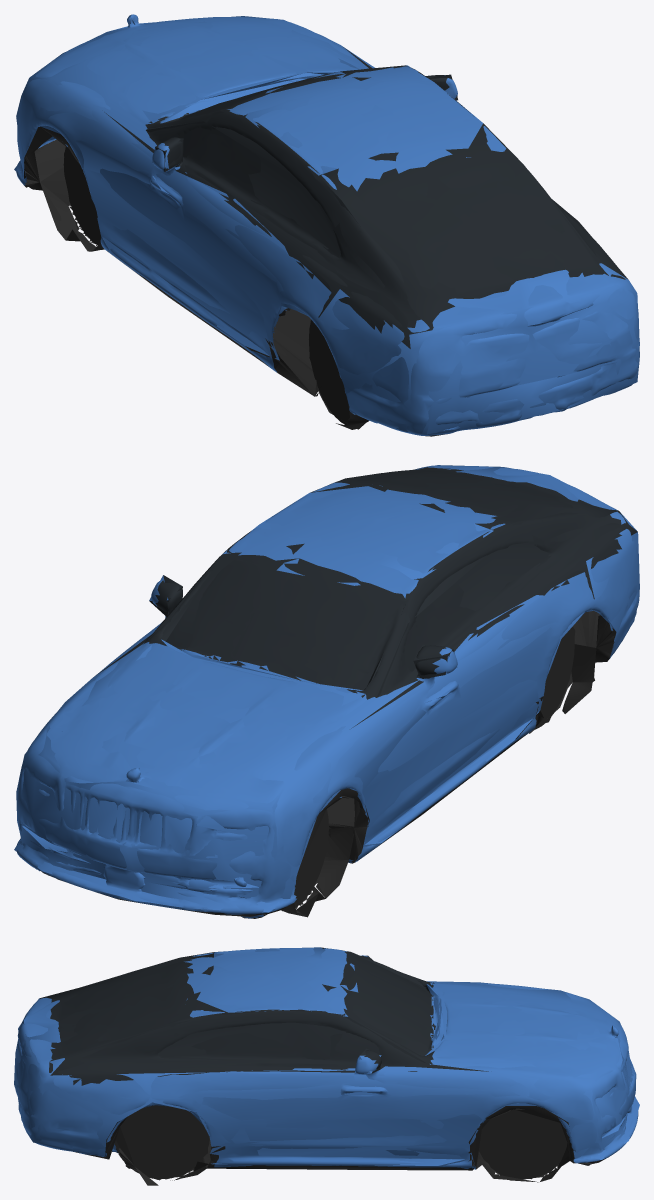
File: rolls-royce-spectre.glb
The picture shows the model from 3 angles, top to bottom: view 1: azimuth 30°, elevation 25°; view 2: azimuth 150°, elevation 25°; view 3: azimuth 270°, elevation 25°; orthographic projection. The views are drawn at different scales.
Parts seen in each view (by area): view 1: body, far; view 2: body, far; view 3: body, far.
Boxes of the visible parts, x1,y1,x2,y2 form: body: (16,14,639,436); far: (14,15,639,434); body: (16,465,639,918); far: (14,465,639,913); body: (15,948,638,1185); far: (14,947,639,1179).
Bounding box in the file's own units: 2.23 × 1.66 × 5.5.
